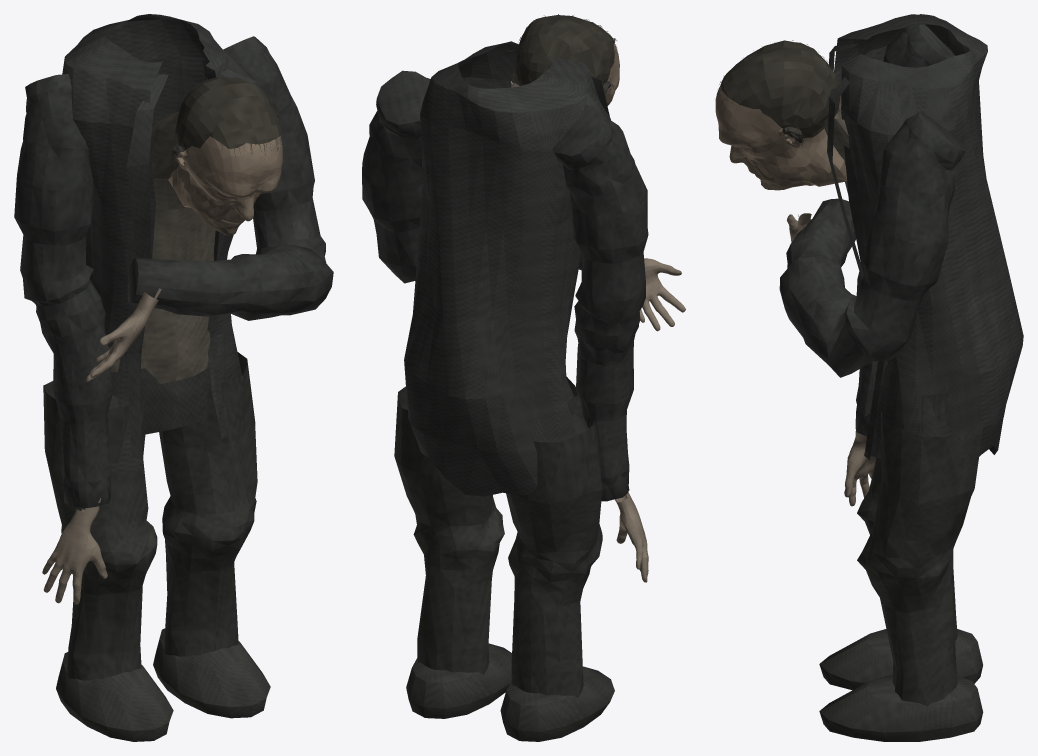
The model's file is resident-human.glb.
The picture shows the model from 3 angles, left to right: view 1: azimuth 30°, elevation 25°; view 2: azimuth 150°, elevation 25°; view 3: azimuth 270°, elevation 25°; orthographic projection. The views are drawn at different scales.
Parts seen in each view (by area): view 1: Left sleeve, Cardigan, TrouserClothR, Right sleeve, TrouserClothL, Undershirt, Face and neck, Receding hair, Slipper 1, Slipper -1, Cardigan edge -1, Trouser waist (+3 smaller); view 2: Cardigan, Left sleeve, TrouserClothL, TrouserClothR, Right sleeve, Receding hair, Slipper -1, Slipper 1, Anatomical hand 1, Anatomical hand -1; view 3: Cardigan, Right sleeve, TrouserClothR, Receding hair, Slipper 1, Face and neck, Slipper -1, Left sleeve, Cardigan edge 1, Anatomical hand -1, TrouserClothL, Undershirt (+1 smaller).
Boxes of the visible parts, box(x1,y1,x2,y2) form: Left sleeve: box(14, 74, 112, 507); Cardigan: box(62, 14, 254, 473); TrouserClothR: box(159, 352, 257, 656); Right sleeve: box(127, 36, 333, 320); TrouserClothL: box(43, 381, 157, 680); Undershirt: box(109, 111, 215, 383); Face and neck: box(168, 136, 282, 235); Receding hair: box(167, 75, 282, 166); Slipper 1: box(153, 628, 270, 718); Slipper -1: box(56, 652, 173, 741); Cardigan edge -1: box(126, 74, 168, 458); Trouser waist: box(111, 362, 211, 434); Cardigan: box(404, 41, 610, 496); Left sleeve: box(552, 105, 648, 501); TrouserClothL: box(506, 421, 602, 697); TrouserClothR: box(394, 386, 504, 674); Right sleeve: box(362, 70, 581, 283); Receding hair: box(512, 14, 616, 96); Slipper -1: box(500, 666, 614, 741); Slipper 1: box(406, 643, 511, 718); Anatomical hand 1: box(639, 258, 685, 331); Anatomical hand -1: box(614, 492, 648, 582); Cardigan: box(834, 14, 1023, 459); Right sleeve: box(779, 111, 966, 377); TrouserClothR: box(857, 412, 984, 706); Receding hair: box(718, 40, 841, 145); Slipper 1: box(819, 675, 983, 741); Face and neck: box(715, 85, 846, 190); Slipper -1: box(819, 629, 982, 690); Left sleeve: box(855, 14, 955, 436); Cardigan edge 1: box(827, 77, 884, 459); Anatomical hand -1: box(844, 431, 875, 506); TrouserClothL: box(857, 457, 957, 640); Undershirt: box(824, 95, 886, 386).
Size of the model in its own units: 0.9496 by 2.08 by 0.8871.
6 materials, 6 textured.
